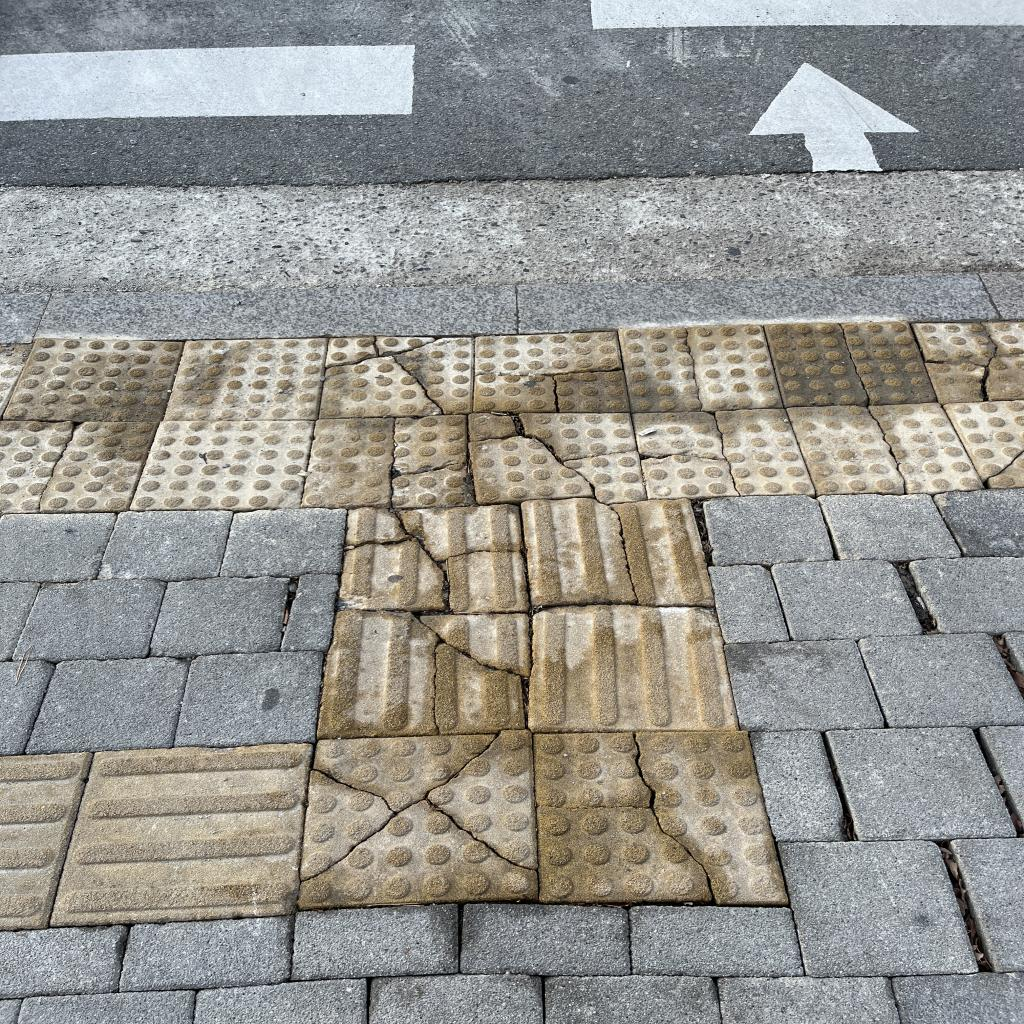Stop block broken: (296, 731, 535, 904), (537, 733, 783, 899), (789, 403, 980, 493), (635, 409, 814, 498), (304, 416, 469, 505), (471, 414, 645, 497), (766, 320, 932, 404), (620, 325, 781, 410), (316, 334, 476, 416), (475, 332, 627, 410)
Stop block normal: (131, 421, 314, 511), (166, 339, 326, 419)
Straight block broken: (321, 614, 525, 737), (524, 497, 711, 607), (343, 504, 524, 607)
Straight block normal: (43, 741, 318, 924), (535, 611, 736, 728)
